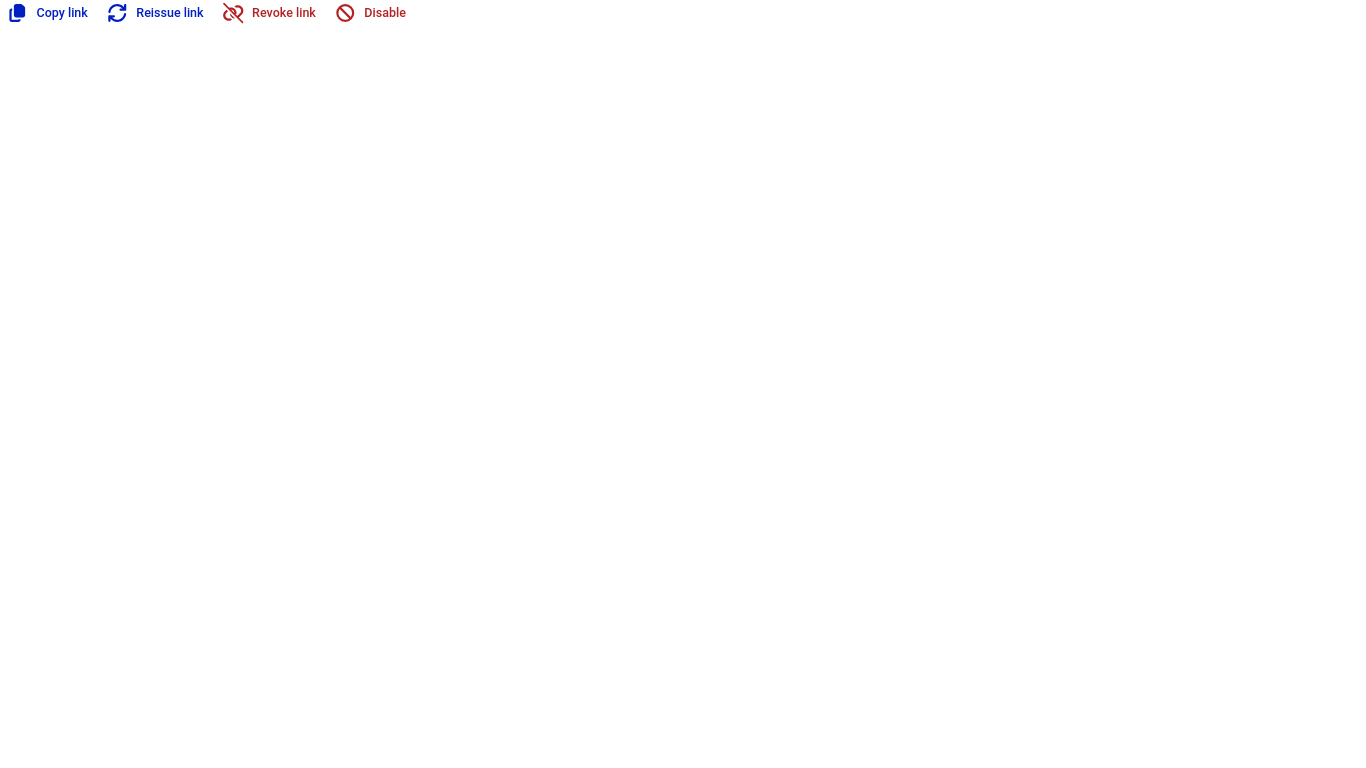
RosterRowActions — confirmed actions › Cancel closes without acting and returns focus to the button that opened it
expect the element named "actions for" is shown: met, box [0,0,414,26]
Click the button with aria-label "Revoke link for Dana Whitfield" at (270, 13), box [216,0,324,26]
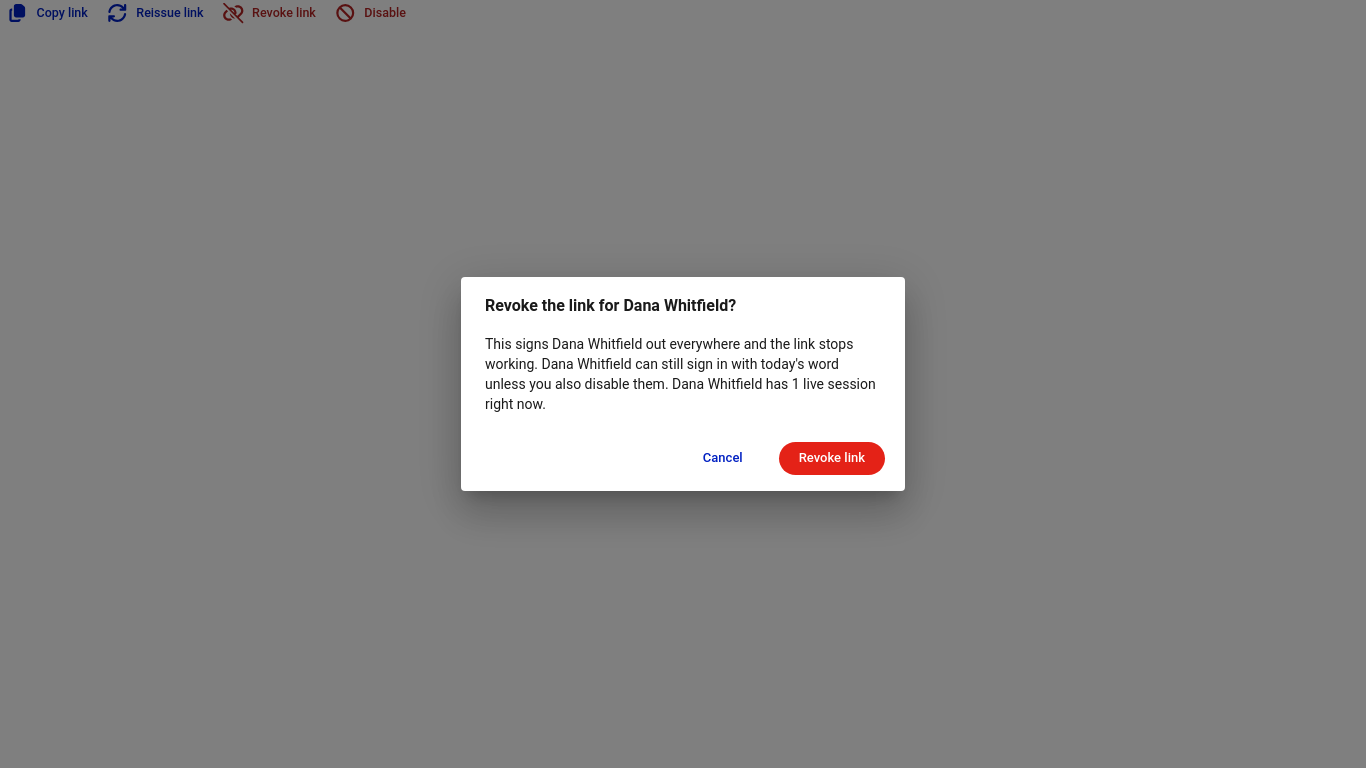
Click the button "Cancel" at (723, 459), box [683,442,763,475]
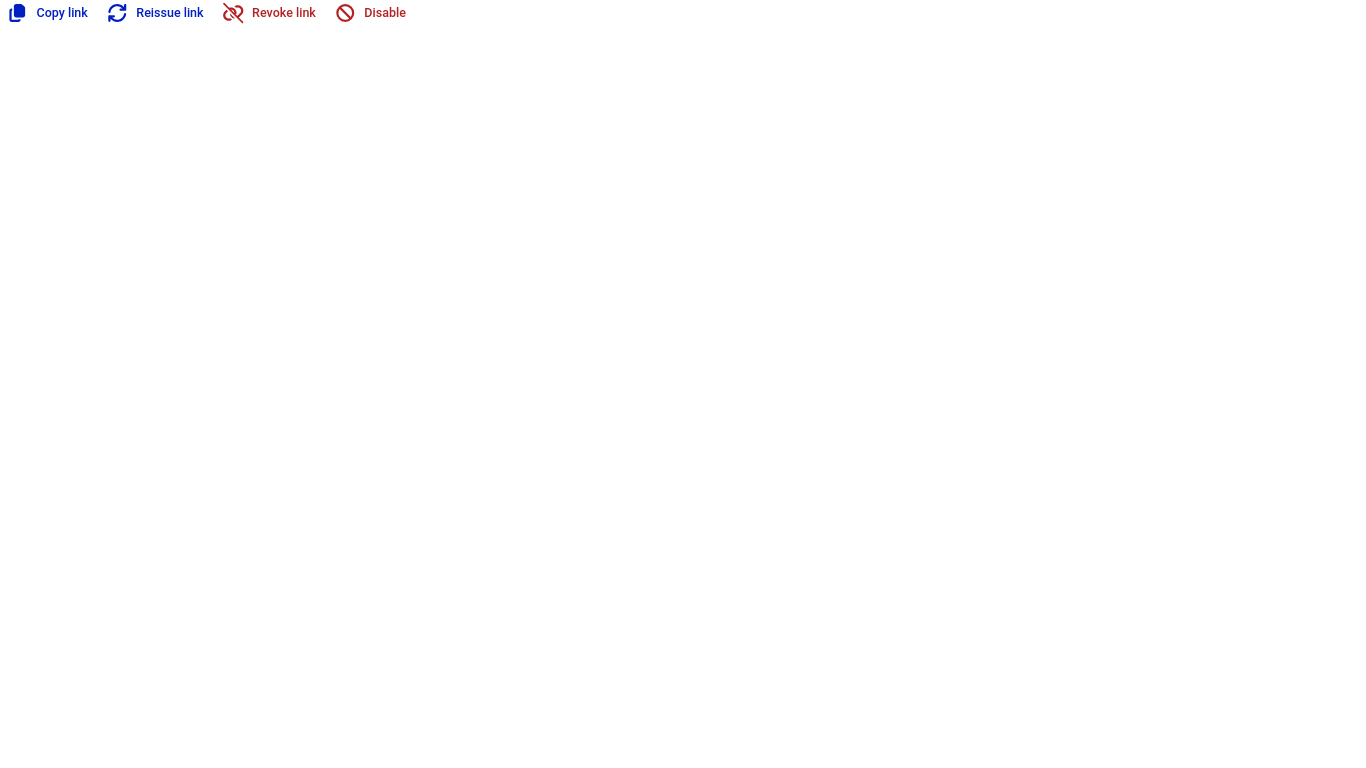
expect the dialog is gone: met
